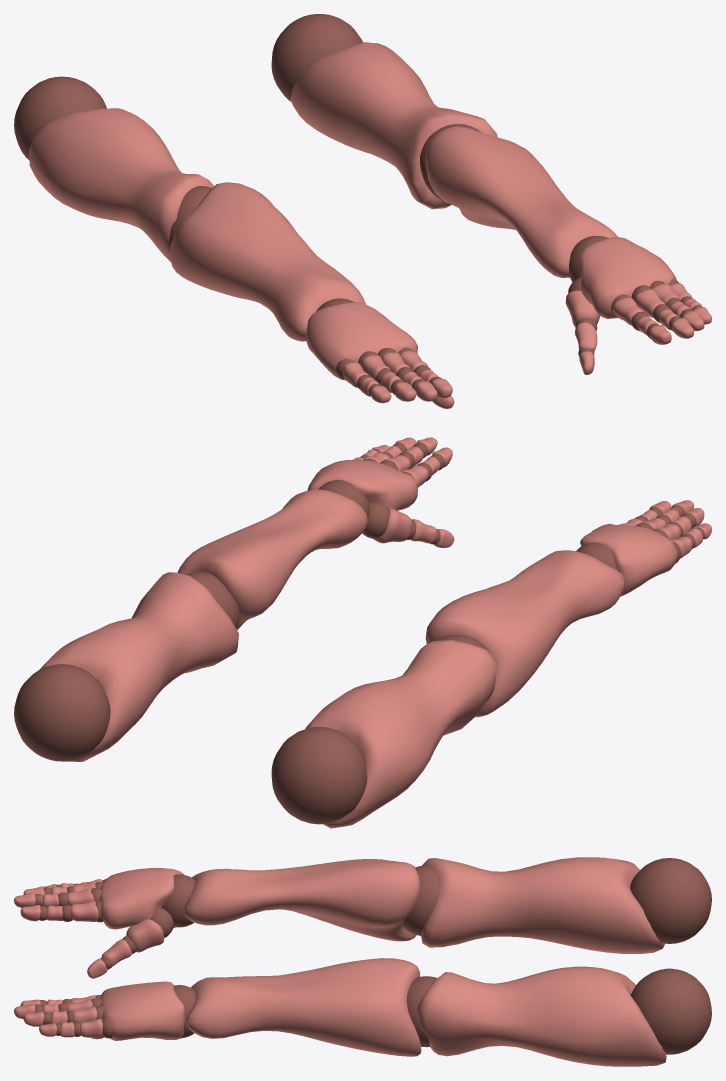
Rendered from L+R_Arm.fbx.
The picture shows the model from 3 angles, top to bottom: view 1: azimuth 30°, elevation 25°; view 2: azimuth 150°, elevation 25°; view 3: azimuth 270°, elevation 25°; orthographic projection. The views are drawn at different scales.
Visible parts, largest first — view 1: L_Arm, R_Arm, L_Forearm, R_Forearm, R_Hand, L_Hand; view 2: L_Arm, R_Arm, L_Forearm, R_Forearm, R_Hand, L_Hand; view 3: R_Arm, L_Arm, R_Forearm, L_Forearm, L_Hand, R_Hand.
Boxes of the visible parts, <box> form: L_Arm: <box>14,76,214,261</box>; R_Arm: <box>271,14,497,209</box>; L_Forearm: <box>170,182,365,341</box>; R_Forearm: <box>425,126,617,281</box>; R_Hand: <box>565,237,711,374</box>; L_Hand: <box>306,302,454,408</box>; L_Arm: <box>271,634,497,828</box>; R_Arm: <box>14,572,239,761</box>; L_Forearm: <box>425,542,624,717</box>; R_Forearm: <box>177,480,369,629</box>; R_Hand: <box>307,437,454,547</box>; L_Hand: <box>580,500,711,596</box>; R_Arm: <box>406,966,711,1066</box>; L_Arm: <box>402,857,711,953</box>; R_Forearm: <box>173,958,421,1056</box>; L_Forearm: <box>161,859,420,941</box>; L_Hand: <box>14,868,184,978</box>; R_Hand: <box>14,981,184,1040</box>.
Size of the model in its own units: 42.9 by 11.94 by 79.96.
